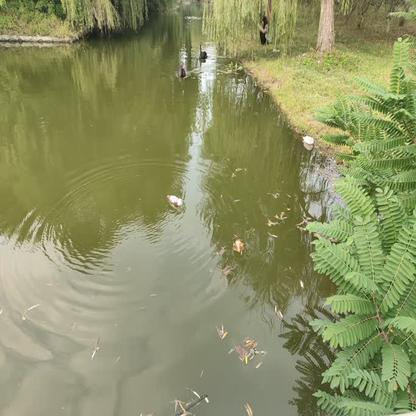plastic bottle: (166, 193, 182, 207), (301, 135, 314, 144)
